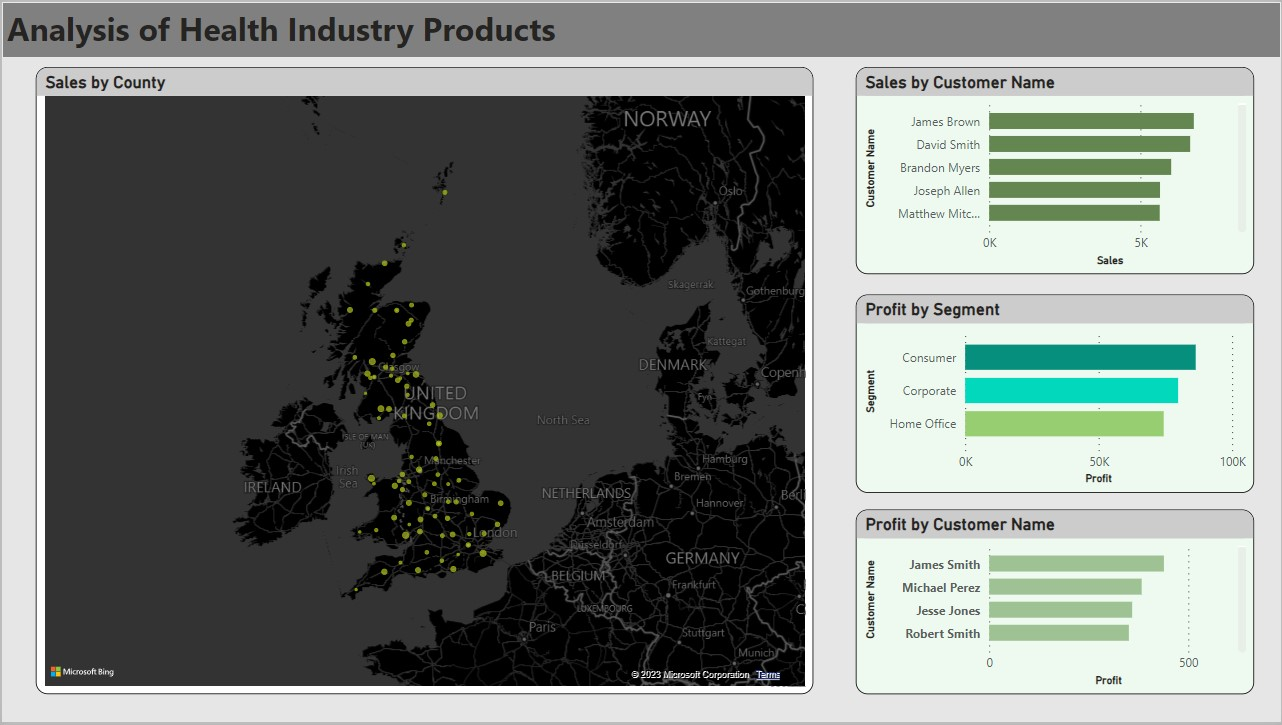

The page's visual inventory and layout, read from the dashboard file:
{"tool":"powerbi","page":{"name":"Page 3","canvas":[1280,720],"ordinal":2},"visuals":[{"type":"clusteredBarChart","title":"Sales by Customer Name","fields":{"Y":["medical_products_data_uk.Sales"],"Category":["medical_products_data_uk.Customer Name"]},"box":[853.8,65,398.8,207.5],"z":0},{"type":"clusteredBarChart","title":"Profit by Segment","fields":{"Y":["medical_products_data_uk.Profit"],"Category":["medical_products_data_uk.Segment"]},"box":[853.8,292.5,398.8,198.8],"z":1000},{"type":"clusteredBarChart","title":"Profit by Customer Name","fields":{"Y":["medical_products_data_uk.Profit"],"Category":["medical_products_data_uk.Customer Name"]},"box":[853.8,507.5,398.8,185],"z":2000},{"type":"map","title":"Sales by County","fields":{"Size":["medical_products_data_uk.Sales"],"Category":["medical_products_data_uk.County"]},"box":[33.8,65,777.5,627.5],"z":3000},{"type":"textbox","box":[0,0,1280,56.2],"z":4000}]}

Visuals, with their boxes in screenshot pixels (x1, y1, x2, y2), scaled from the page's 1280x720 canvas onto the 1282x725 screenshot:
"Sales by Customer Name" clusteredBarChart: (855, 65, 1255, 274)
"Profit by Segment" clusteredBarChart: (855, 295, 1255, 495)
"Profit by Customer Name" clusteredBarChart: (855, 511, 1255, 697)
"Sales by County" map: (34, 65, 813, 697)
textbox: (0, 0, 1281, 57)
